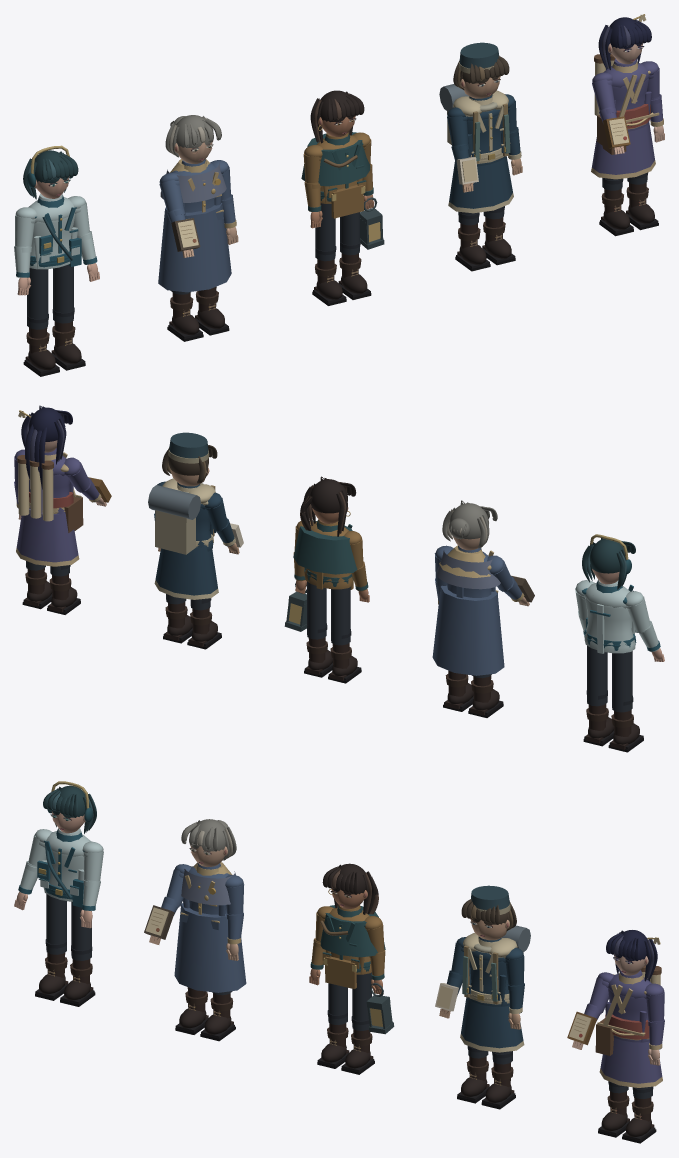
File: Main_Cast.glb
The picture shows the model from 3 angles, top to bottom: view 1: azimuth 30°, elevation 25°; view 2: azimuth 150°, elevation 25°; view 3: azimuth 330°, elevation 25°; orthographic projection. The views are drawn at different scales.
Visible parts, largest first — view 1: ResidentClothing (×5), ResidentBootsAndLegs (×5), ResidentFaceAndHair (×5), ResidentSleeve_-1 (×5), ResidentSleeve_1 (×5); view 2: ResidentClothing (×5), ResidentBootsAndLegs (×5), ResidentFaceAndHair (×5), ResidentSleeve_-1 (×5), ResidentSleeve_1; view 3: ResidentClothing (×5), ResidentBootsAndLegs (×5), ResidentFaceAndHair (×5), ResidentSleeve_1 (×5), ResidentSleeve_-1 (×5).
Part boxes in pixels (left/top/right/bottom): ResidentClothing (×5): left=28, top=54, right=659, bottom=292; ResidentBootsAndLegs (×5): left=23, top=172, right=658, bottom=376; ResidentFaceAndHair (×5): left=23, top=14, right=651, bottom=199; ResidentSleeve_-1 (×5): left=14, top=72, right=630, bottom=295; ResidentSleeve_1 (×5): left=68, top=61, right=664, bottom=281; ResidentClothing (×5): left=16, top=448, right=637, bottom=675; ResidentBootsAndLegs (×5): left=22, top=561, right=643, bottom=752; ResidentFaceAndHair (×5): left=18, top=405, right=635, bottom=589; ResidentSleeve_-1 (×5): left=64, top=457, right=664, bottom=661; ResidentSleeve_1: left=284, top=521, right=313, bottom=631; ResidentClothing (×5): left=37, top=828, right=662, bottom=1087; ResidentBootsAndLegs (×5): left=35, top=894, right=656, bottom=1143; ResidentFaceAndHair (×5): left=43, top=781, right=660, bottom=981; ResidentSleeve_1 (×5): left=80, top=841, right=664, bottom=1065; ResidentSleeve_-1 (×5): left=14, top=829, right=613, bottom=1049.
Size of the model in its own units: 5.68 by 1.78 by 0.7356.
